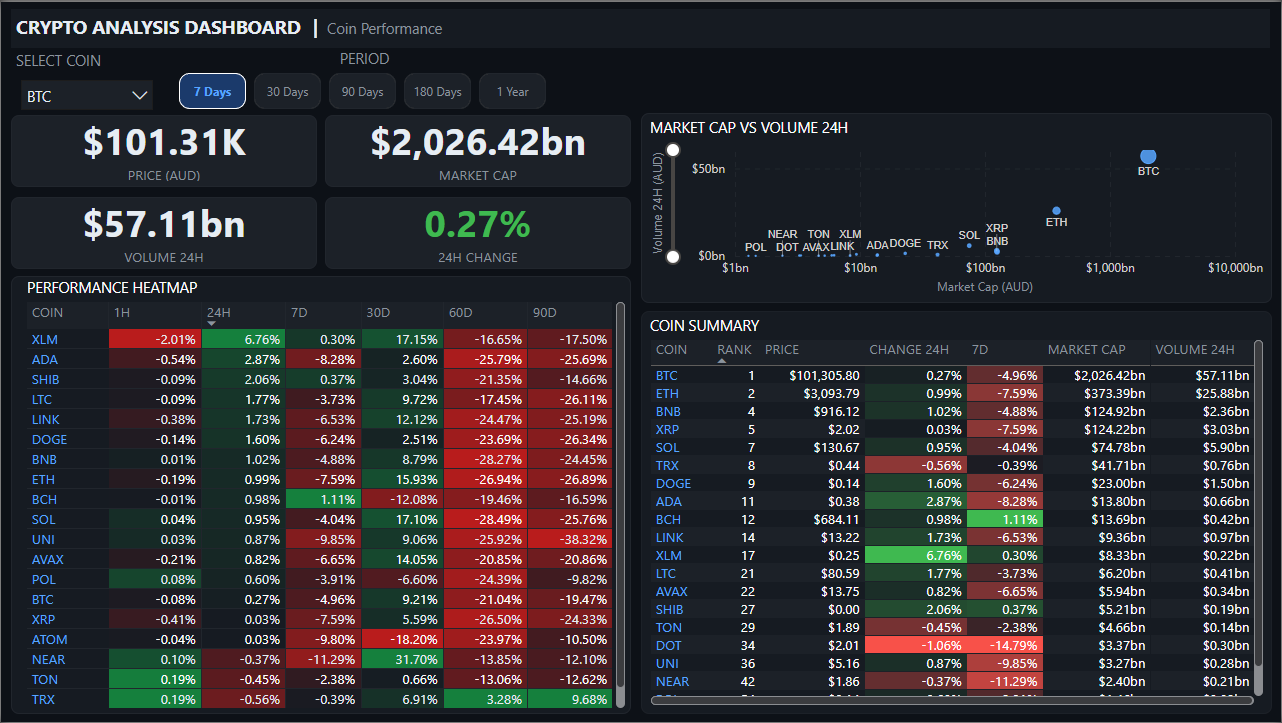

This screenshot's page, from the dashboard's own definition file:
{"tool":"powerbi","page":{"name":"Coin Performance","canvas":[1280,720],"ordinal":1},"visuals":[{"type":"slicer","title":"SELECT COIN","fields":{"Values":["dim_coin.symbol"]},"box":[10,46,152,64],"z":0},{"type":"card","fields":{"Values":["_Measures.Latest Price"]},"box":[10,113,306,72],"z":2000},{"type":"card","fields":{"Values":["_Measures.Latest Market Cap"]},"box":[324,113,306,72],"z":3000},{"type":"card","fields":{"Values":["_Measures.Latest Volume 24H"]},"box":[10,195,306,72],"z":4000},{"type":"card","fields":{"Values":["_Measures.Latest 24H Change"]},"box":[324,195,306,72],"z":5000},{"type":"pivotTable","title":"PERFORMANCE HEATMAP","fields":{"Values":["_Measures.Latest 1H Change","_Measures.Latest 24H Change","_Measures.Latest 7D Change","_Measures.Latest 30D Change","_Measures.Latest 60D Change","_Measures.Latest 90D Change"],"Rows":["dim_coin.symbol"]},"box":[10,274,620,438],"z":6000},{"type":"scatterChart","title":"MARKET CAP VS VOLUME 24H","fields":{"X":["_Measures.Latest Market Cap"],"Y":["_Measures.Latest Volume 24H"],"Size":["_Measures.Latest Market Cap"],"Category":["dim_coin.symbol"]},"box":[640,111.3,629.6,189.8],"z":7000},{"type":"tableEx","title":"COIN SUMMARY","fields":{"Values":["dim_coin.symbol","_Measures.Latest Rank","_Measures.Latest Price","_Measures.Latest 24H Change","_Measures.Latest 7D Change","_Measures.Latest Market Cap","_Measures.Latest Volume 24H"]},"box":[640,309,631,403],"z":8000},{"type":"textbox","box":[10,7,1259,39],"z":9000}]}

Visuals, with their boxes in screenshot pixels (x1, y1, x2, y2), scaled from the page's 1280x720 canvas onto the 1282x723 screenshot:
"SELECT COIN" slicer: 10, 46, 162, 110
card - _Measures.Latest Price: 10, 113, 316, 186
card - _Measures.Latest Market Cap: 325, 113, 631, 186
card - _Measures.Latest Volume 24H: 10, 196, 316, 268
card - _Measures.Latest 24H Change: 325, 196, 631, 268
"PERFORMANCE HEATMAP" pivotTable: 10, 275, 631, 715
"MARKET CAP VS VOLUME 24H" scatterChart: 641, 112, 1272, 302
"COIN SUMMARY" tableEx: 641, 310, 1273, 715
textbox: 10, 7, 1271, 46
